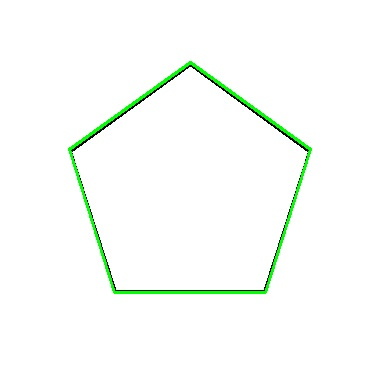line_segment: (69, 62, 311, 294)
